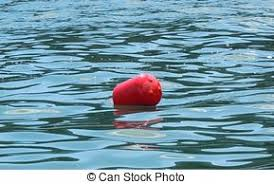buoy: (113, 72, 163, 112)
